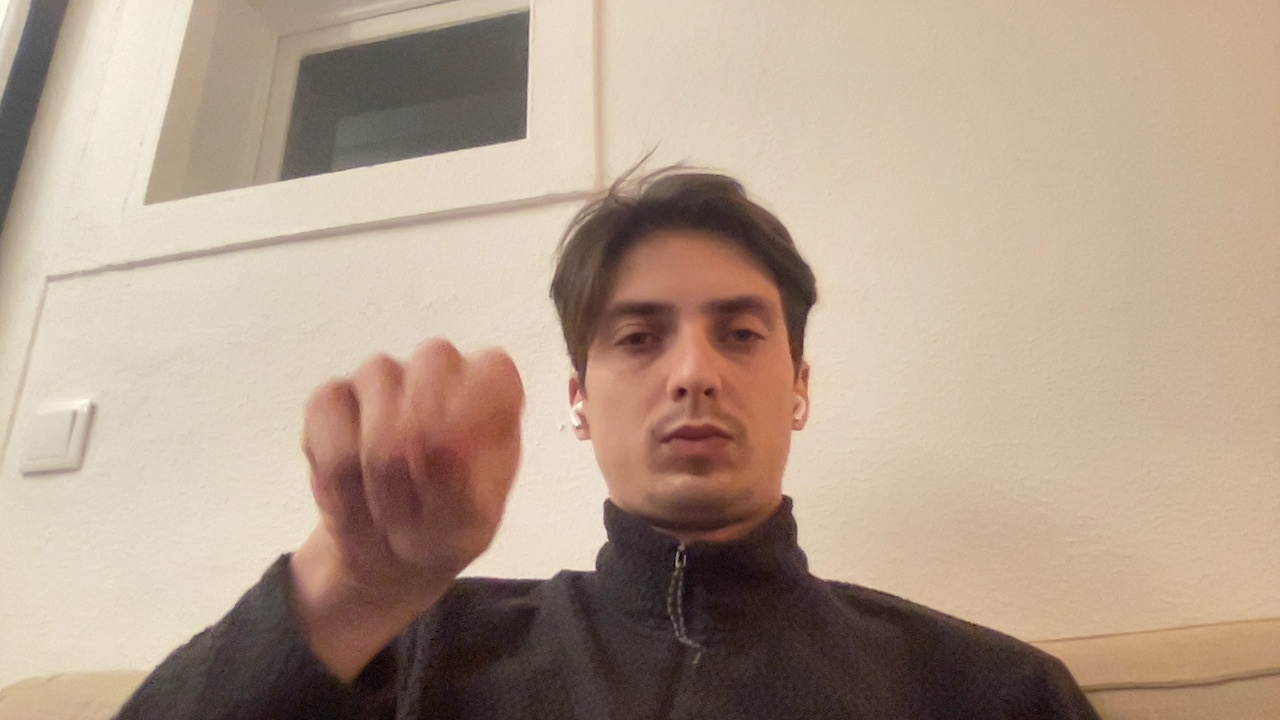no: (205, 293, 574, 655)
